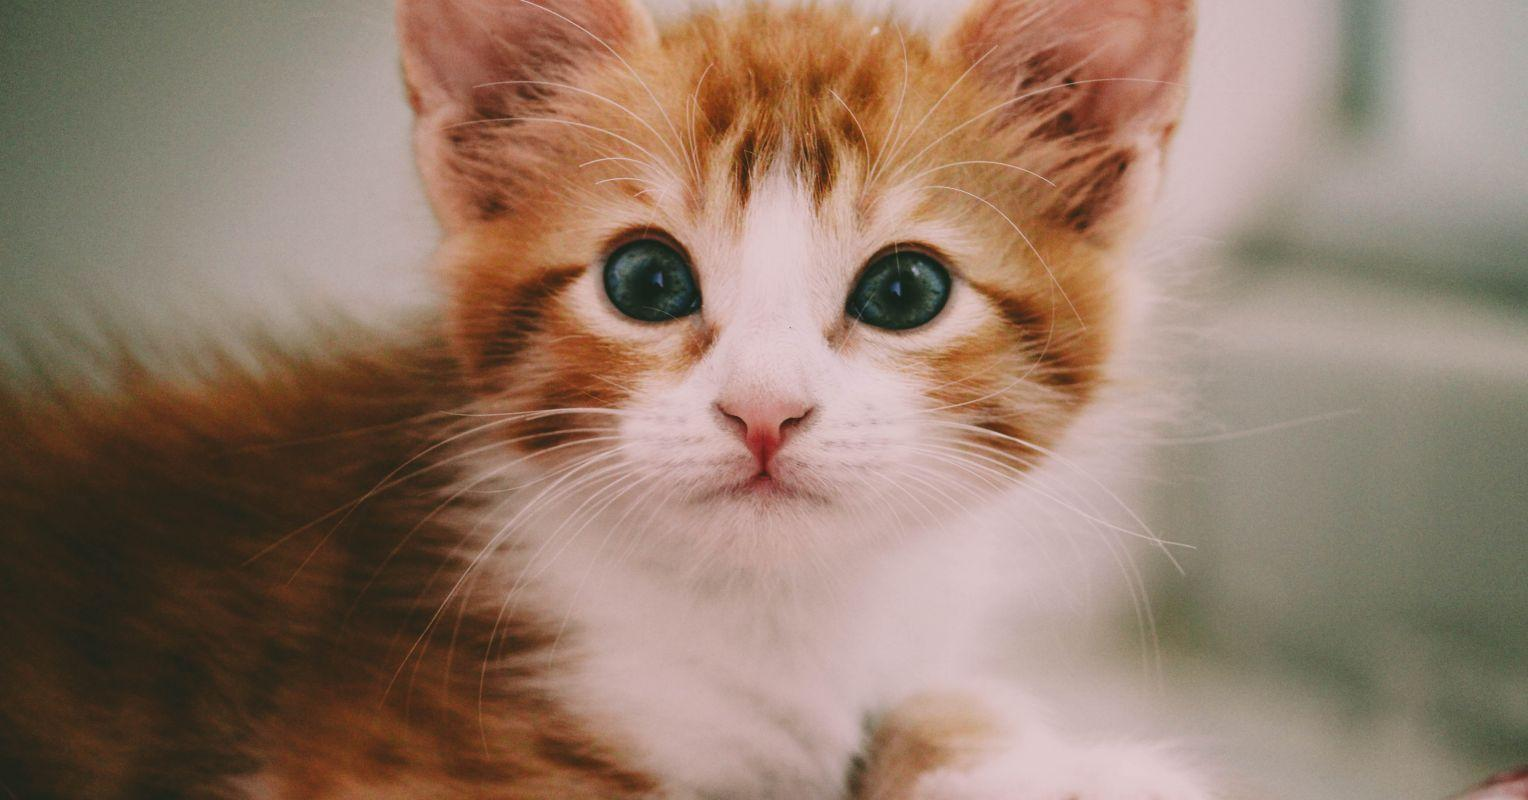Cat: (418, 0, 1173, 562)
